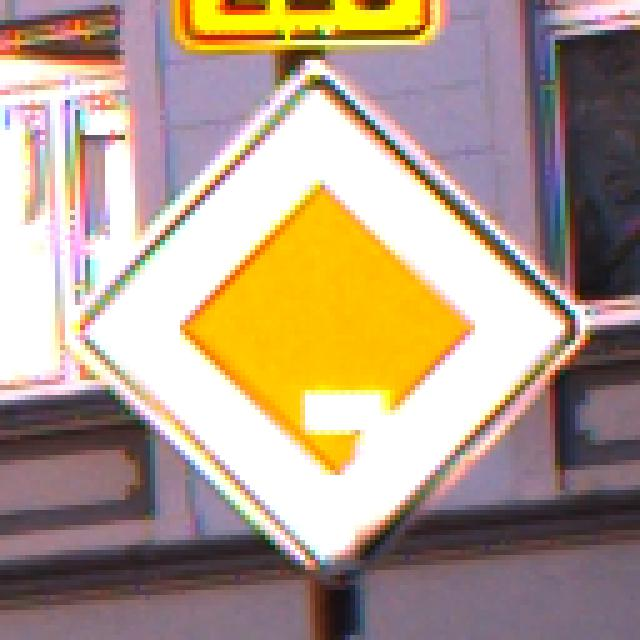Main Road: (61, 56, 586, 586)
